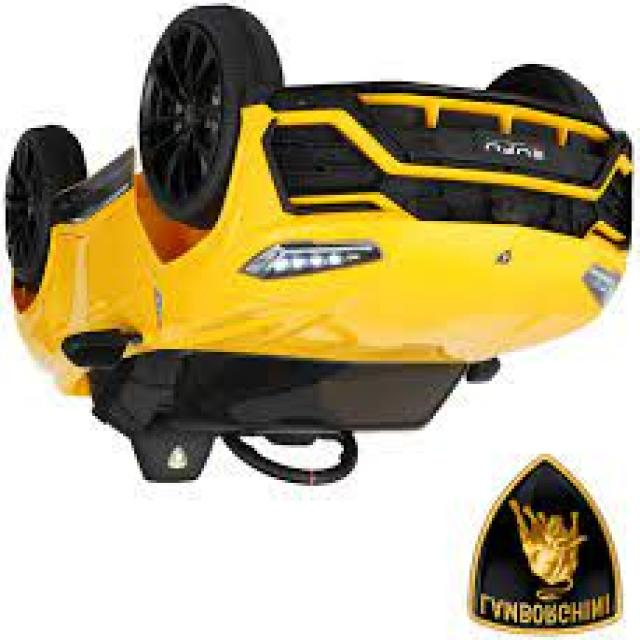Car: (0, 6, 634, 489)
